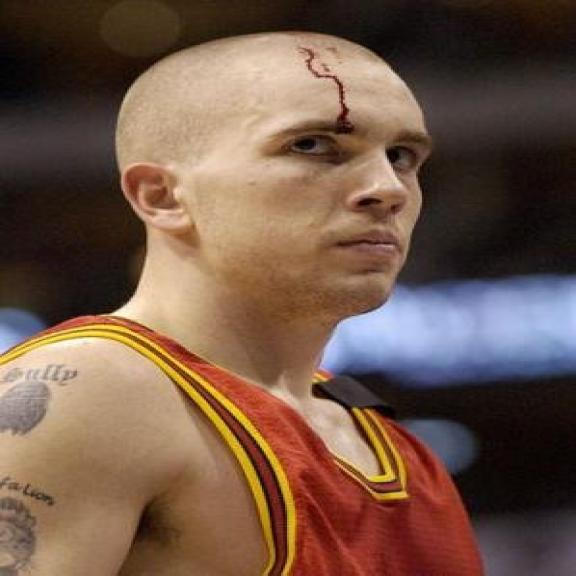face: (114, 57, 433, 325)
